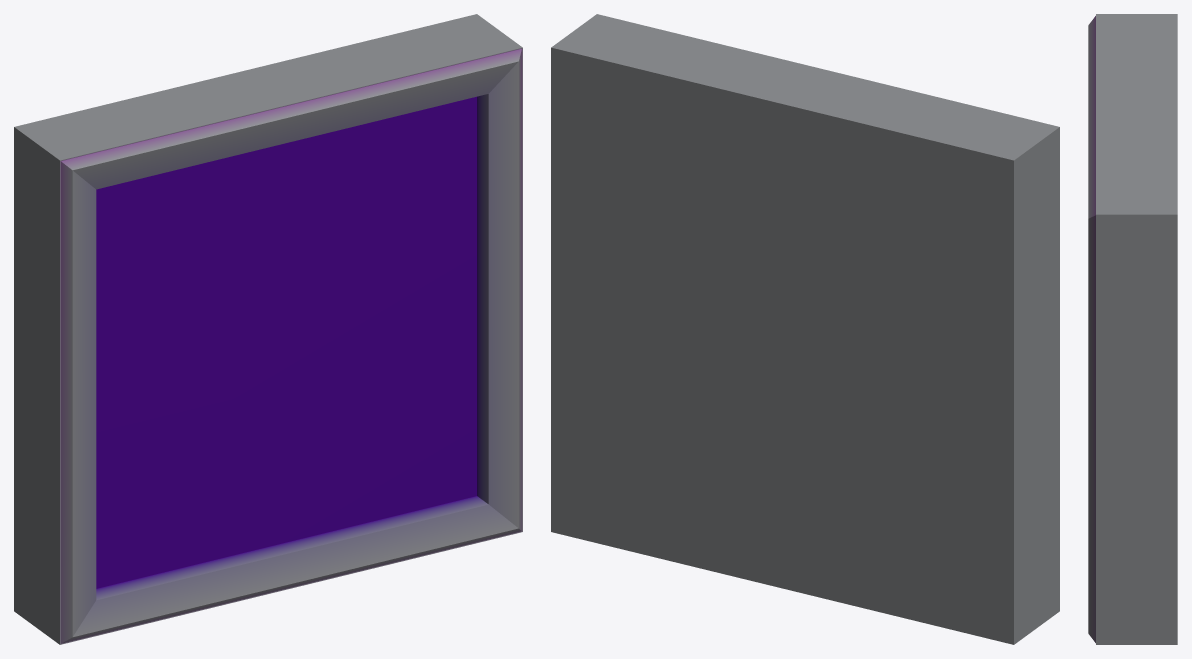
3 renders of one model, left to right at view 1: azimuth 30°, elevation 25°; view 2: azimuth 150°, elevation 25°; view 3: azimuth 270°, elevation 25°, orthographic. The views are drawn at different scales.
Parts seen in each view (by area): view 1: front_bevel; view 2: front_bevel; view 3: front_bevel.
Boxes of the visible parts, x1,y1,x2,y2 form: front_bevel: (14,14,522,644); front_bevel: (551,14,1059,644); front_bevel: (1088,14,1177,644).
Bounding box in the file's own units: 0.5 × 0.5 × 0.0939.
